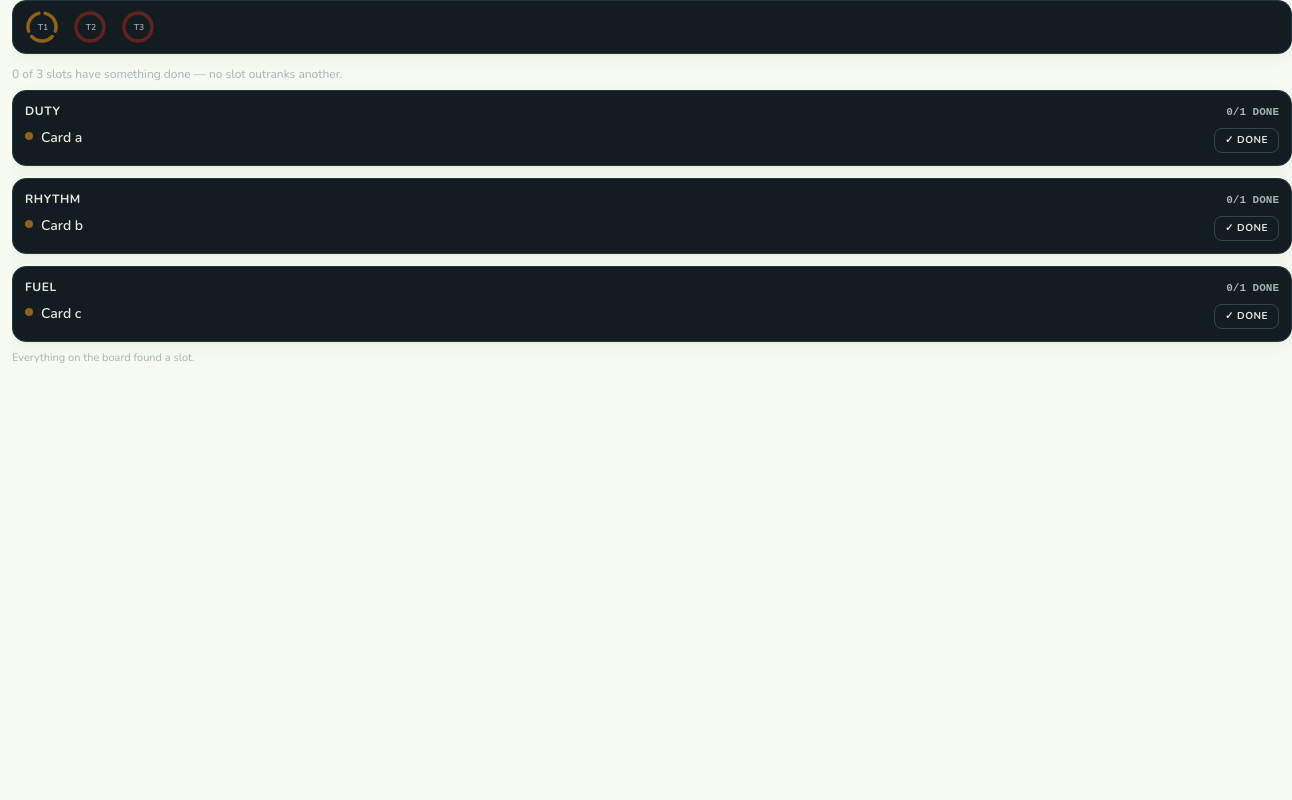
the mounted path — it shows in place, and five read as five › a burst renders one notice row per refused ✓, not one line total
This screenshot has width=1292, height=800.
What coordinates should you click on to do the following:
click the button with test id "board-complete"
I would click on:
 (1246, 140)
Its box is [1214,128,1279,153].
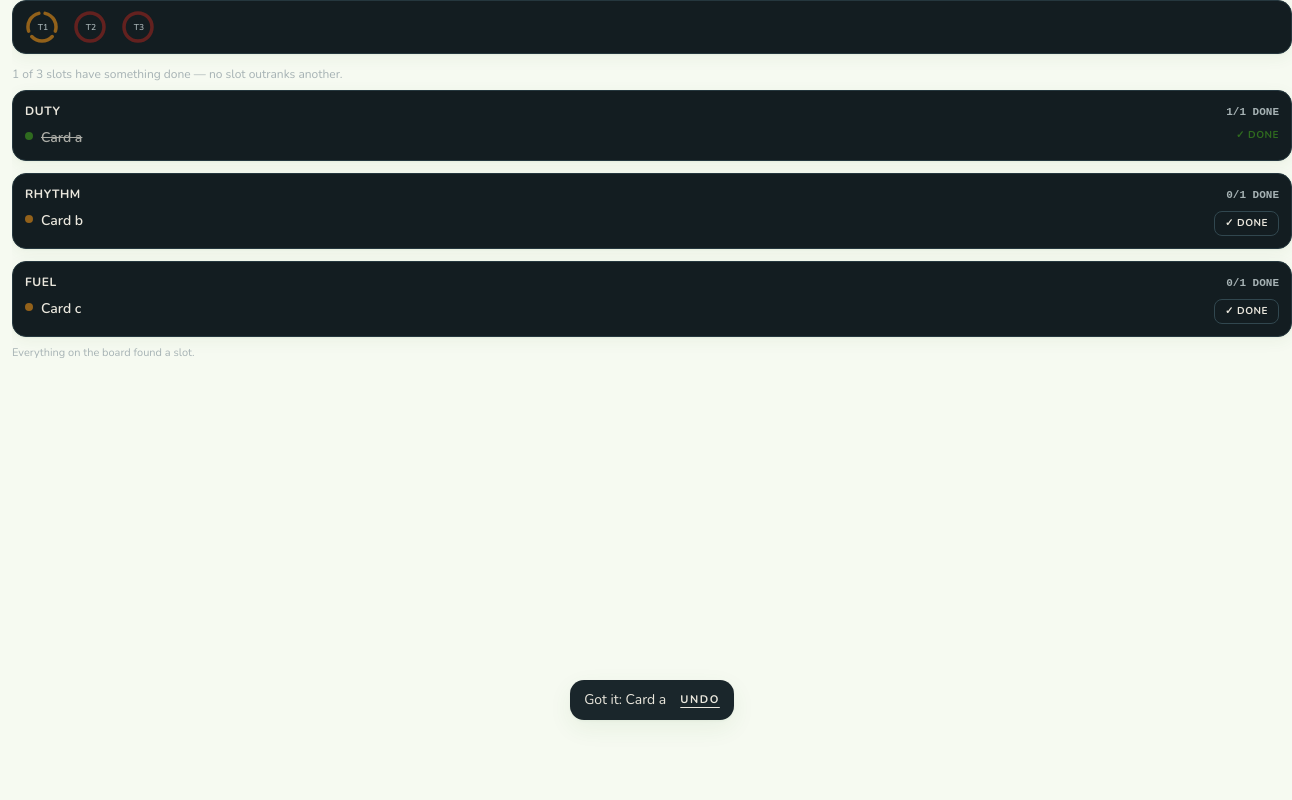
What coordinates should you click on to do the following:
click the button with test id "board-complete"
I would click on:
 (1246, 224)
Its box is [1214,211,1279,236].
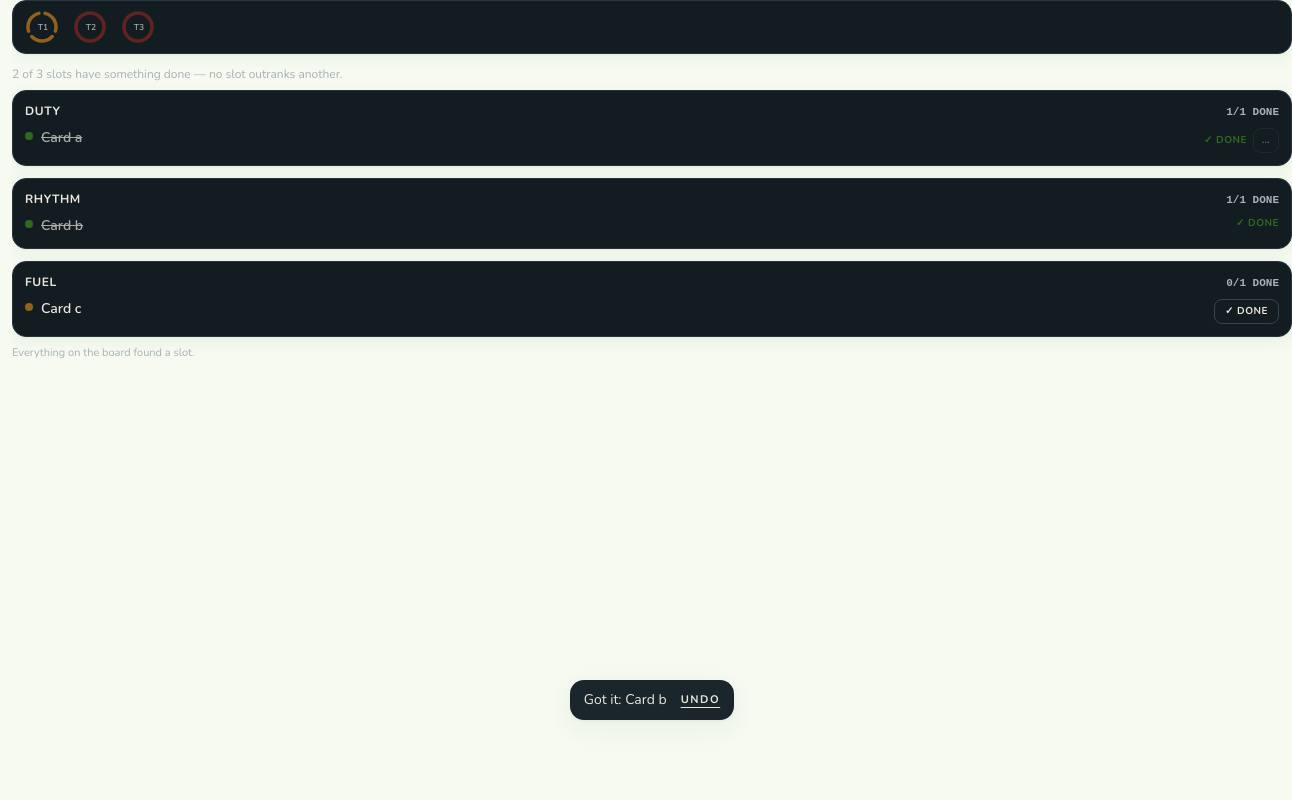
What coordinates should you click on to do the following:
click the button with test id "board-complete"
I would click on:
 (1246, 312)
Its box is [1214,299,1279,324].
Wait 6000 ms
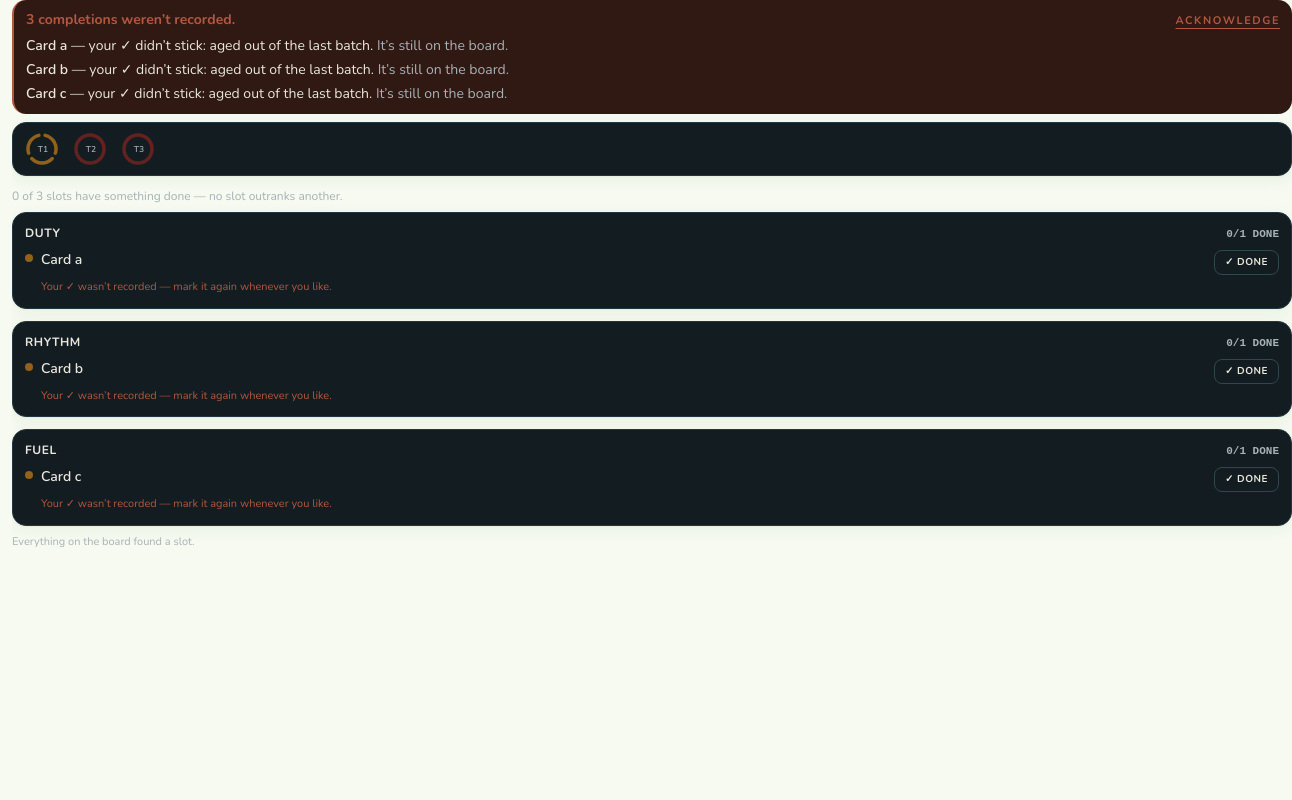
Now the message with test id "board-unrecorded" shows "3 completions weren’t recorded.", box [26,10,235,29]
Now the number of elements with test id "board-item-unrecorded" is 3, box [41,279,332,294]; [41,388,332,402]; [41,496,332,511]
